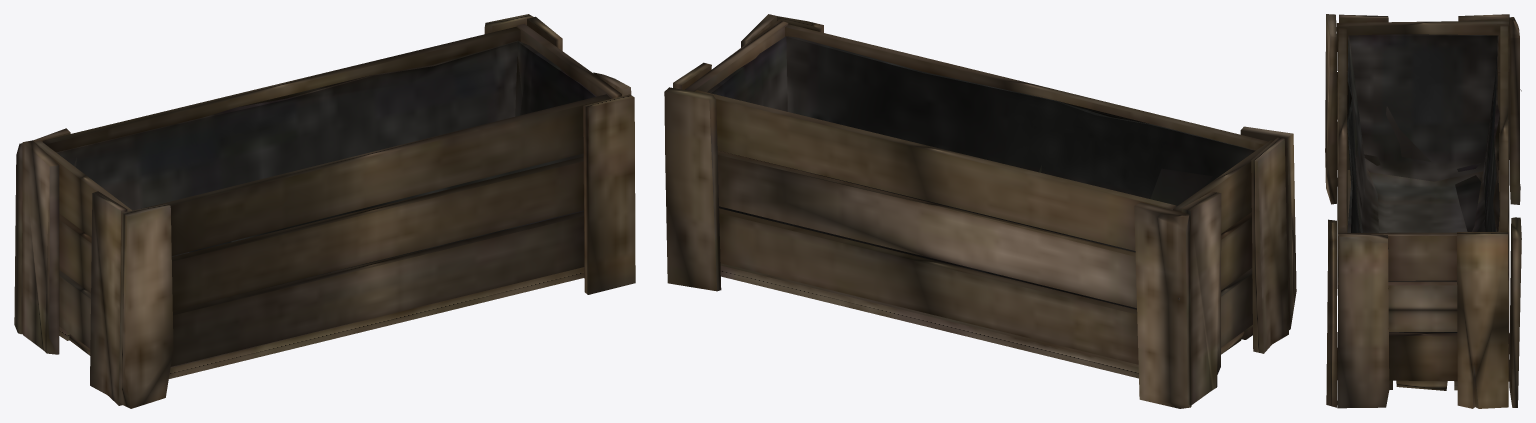
Rendered from planter_box_02.glb.
3 views of the same model, side by side, from view 1: azimuth 30°, elevation 25°; view 2: azimuth 150°, elevation 25°; view 3: azimuth 270°, elevation 25° (orthographic). The views are drawn at different scales.
Parts seen in each view (by area): view 1: planter_box_02; view 2: planter_box_02; view 3: planter_box_02.
Part boxes in pixels (left/top/right/bottom): planter_box_02: left=14, top=14, right=635, bottom=408; planter_box_02: left=664, top=14, right=1296, bottom=408; planter_box_02: left=1325, top=14, right=1521, bottom=408.
Bounding box in the file's own units: 1.24 × 0.4486 × 0.4619.
Materials: 1 (1 with a texture image).
